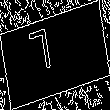L_S: (41, 27, 69, 83)
